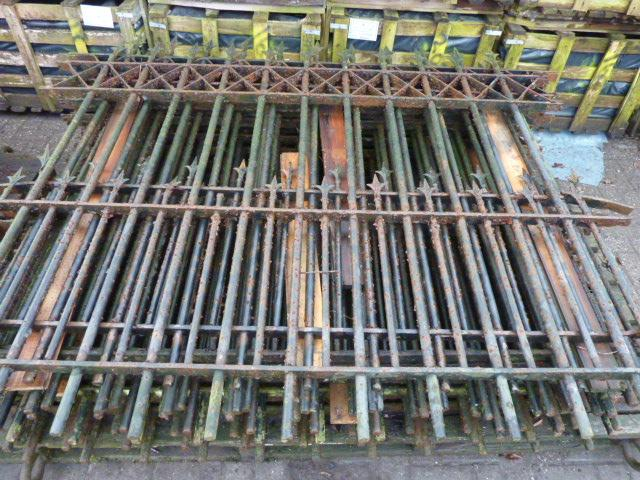obstacle: (0, 0, 640, 426)
